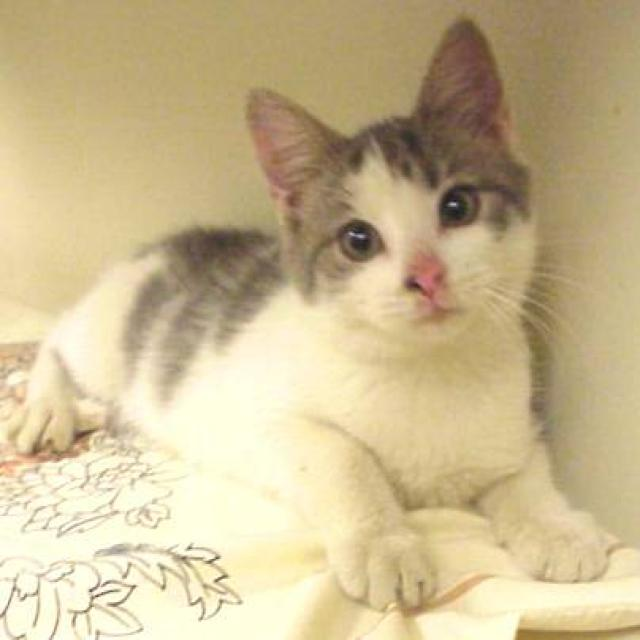Cat: (228, 24, 569, 375)
